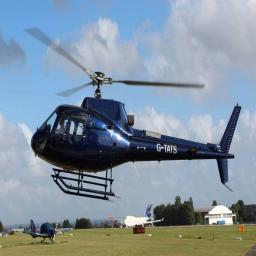helicopter: (32, 30, 244, 206)
